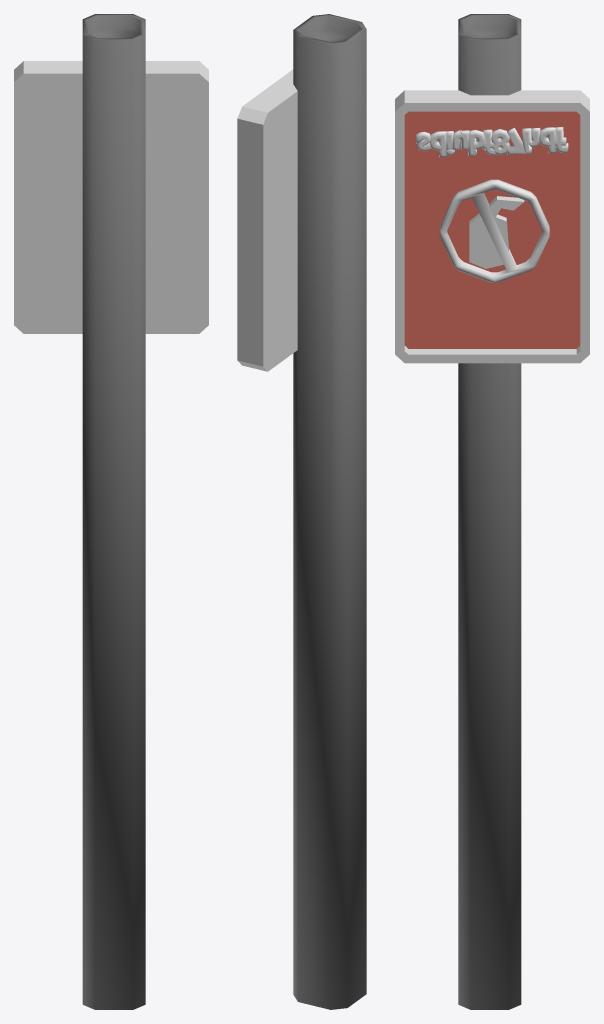
The model's file is signcone.fbx.
3 views of the same model, side by side, from view 1: azimuth 90°, elevation 25°; view 2: azimuth 150°, elevation 25°; view 3: azimuth 270°, elevation 25° (orthographic).
Parts seen in each view (by area): view 1: Text; view 2: Text; view 3: Text.
Part boxes in pixels (bbox=[...]): Text: bbox=[14, 14, 208, 1009]; Text: bbox=[237, 14, 366, 1009]; Text: bbox=[395, 14, 589, 1009].
Size of the model in its own units: 258 by 3402 by 620.
